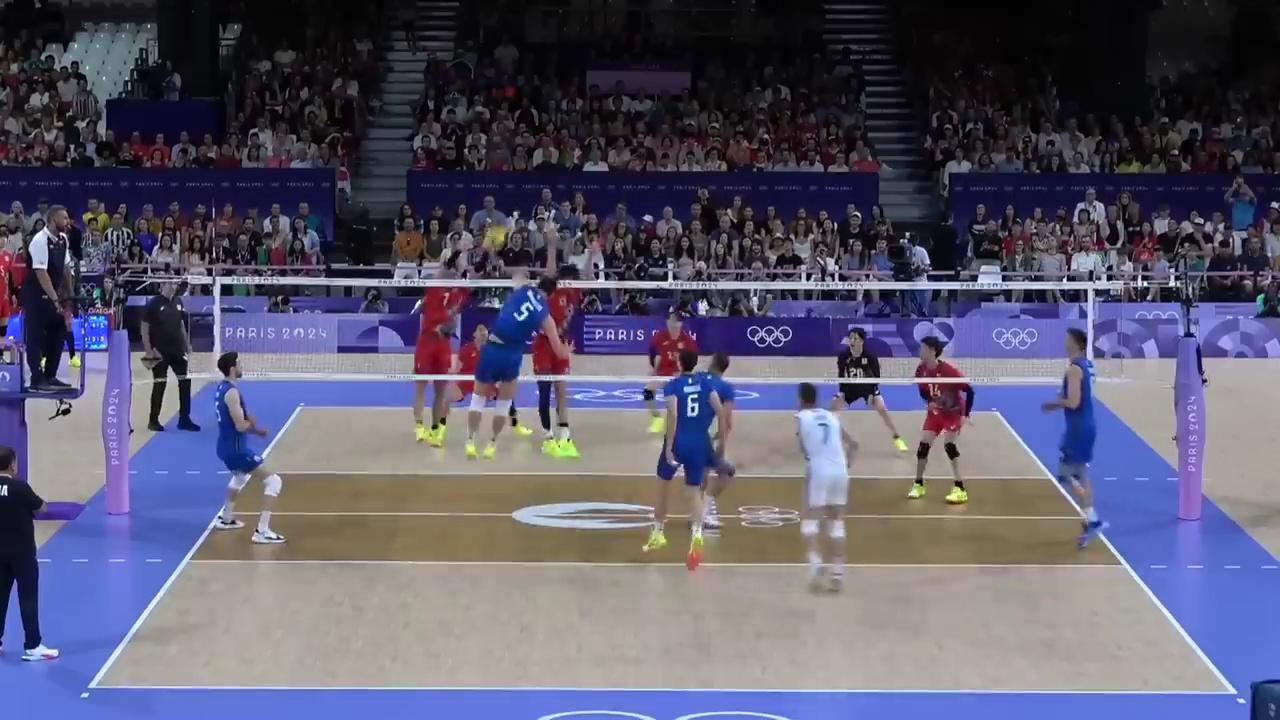ball: (485, 223, 506, 249)
